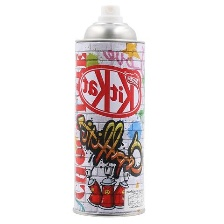aerosol_cans: (63, 0, 154, 221)
